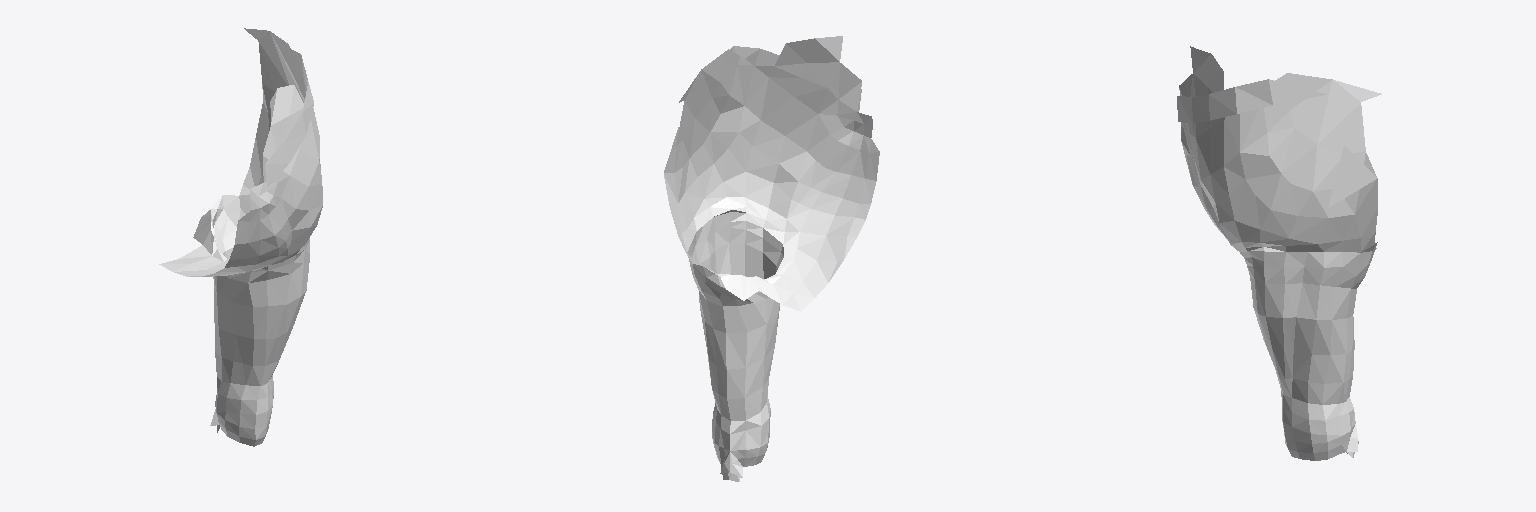
Rendered from leg_front_upper_left.obj.
3 views of the same model, side by side, from view 1: azimuth 30°, elevation 25°; view 2: azimuth 150°, elevation 25°; view 3: azimuth 270°, elevation 25° (orthographic).
Visible parts, largest first — view 1: horse; view 2: horse; view 3: horse.
Part boxes in pixels (x1,y1,x2,y2): horse: (159,28,322,446); horse: (664,36,879,481); horse: (1177,46,1381,460).
Size of the model in its own units: 13.64 by 40.21 by 18.68.